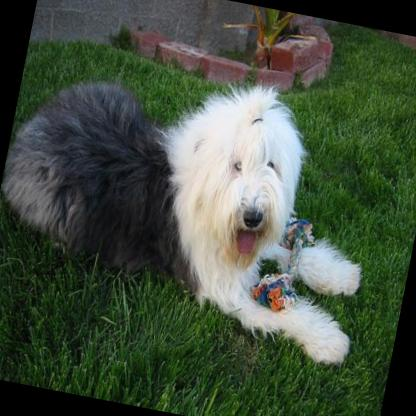Old_English_sheepdog: (0, 41, 396, 365)
